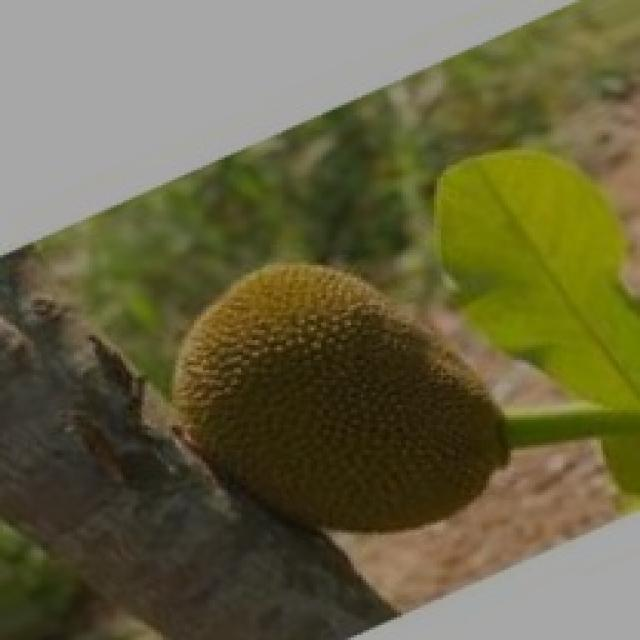Fruit: (138, 222, 536, 558), (397, 118, 640, 448)
